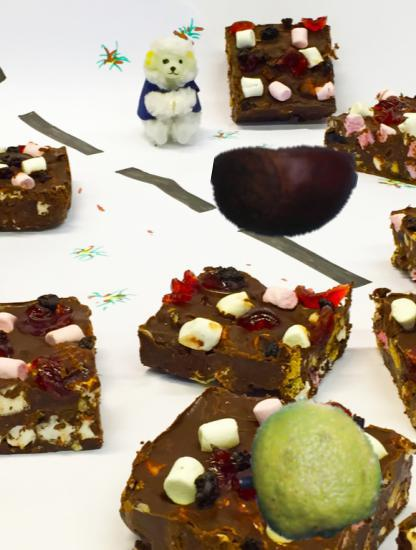Chestnut: (210, 117, 356, 263)
Limes: (235, 397, 380, 542)
